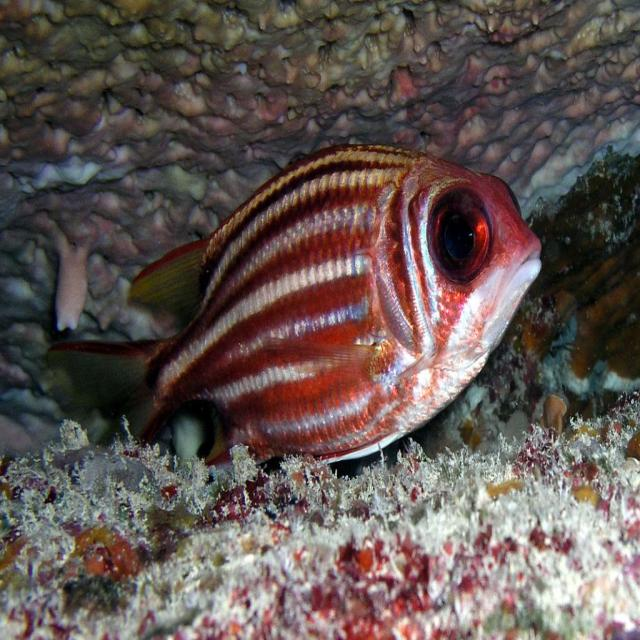Asker Baligi: (45, 140, 544, 474)
